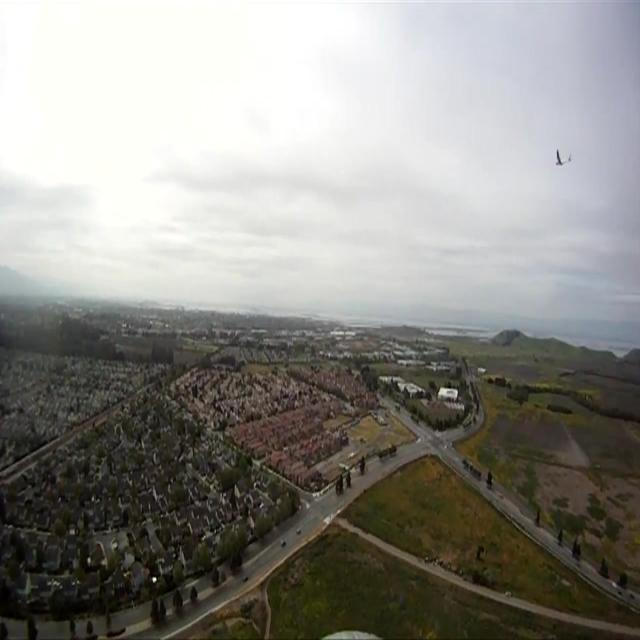iha: (551, 145, 573, 173)
